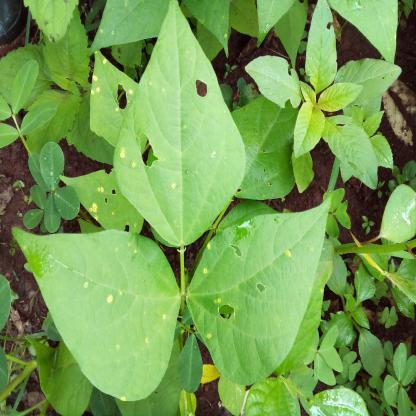Beans_Rust: (112, 0, 247, 244), (11, 230, 182, 400), (185, 197, 335, 384), (56, 166, 144, 236), (92, 49, 138, 151)
